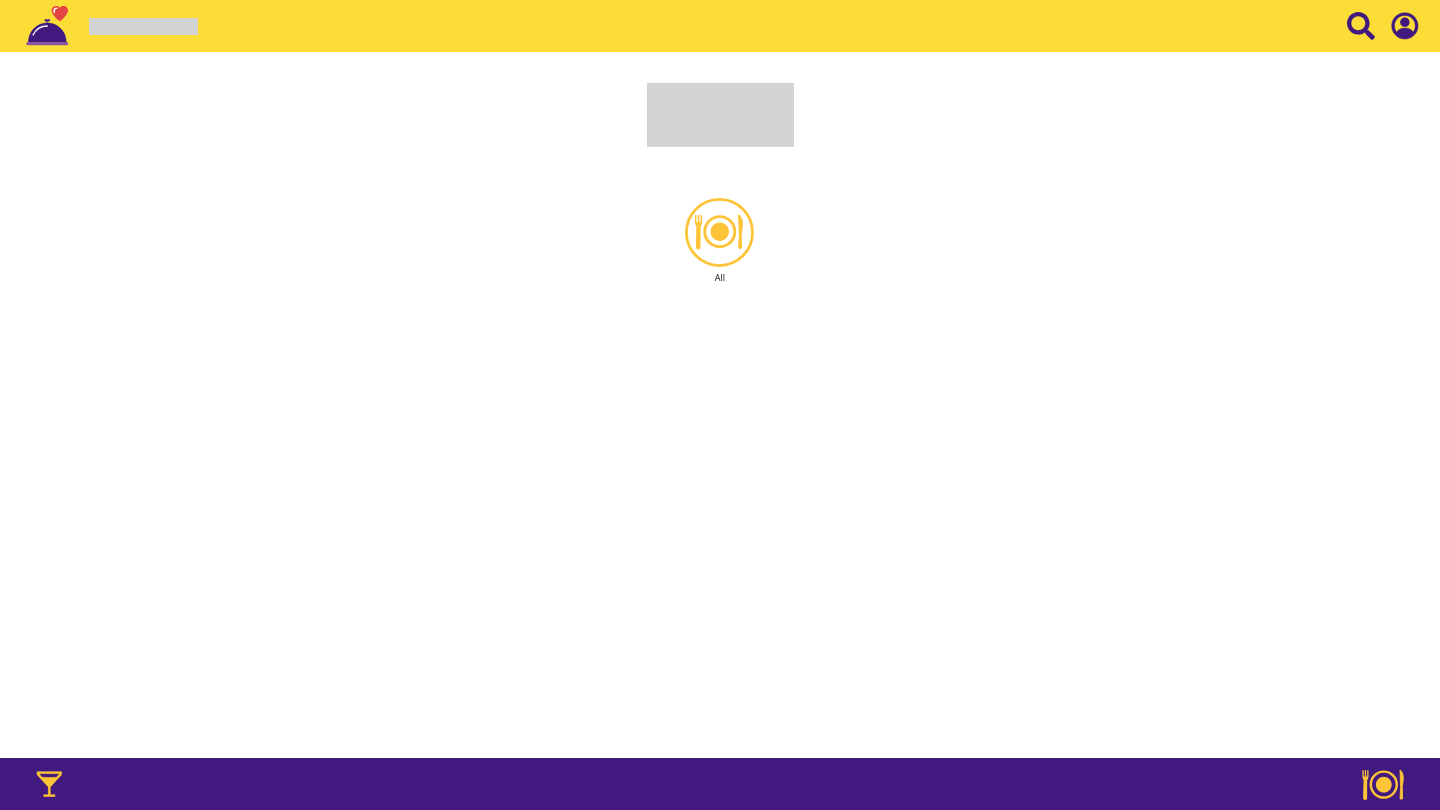
Test: Verifica o componente "SearchBar" › Verifica se ao ser clicado no botao de busca, o Searchbar é exibido
The image size is (1440, 810).
Step 1. Click the button with test id "search-top-btn" → (1361, 26), box top-left (1347, 12), bottom-right (1375, 40)
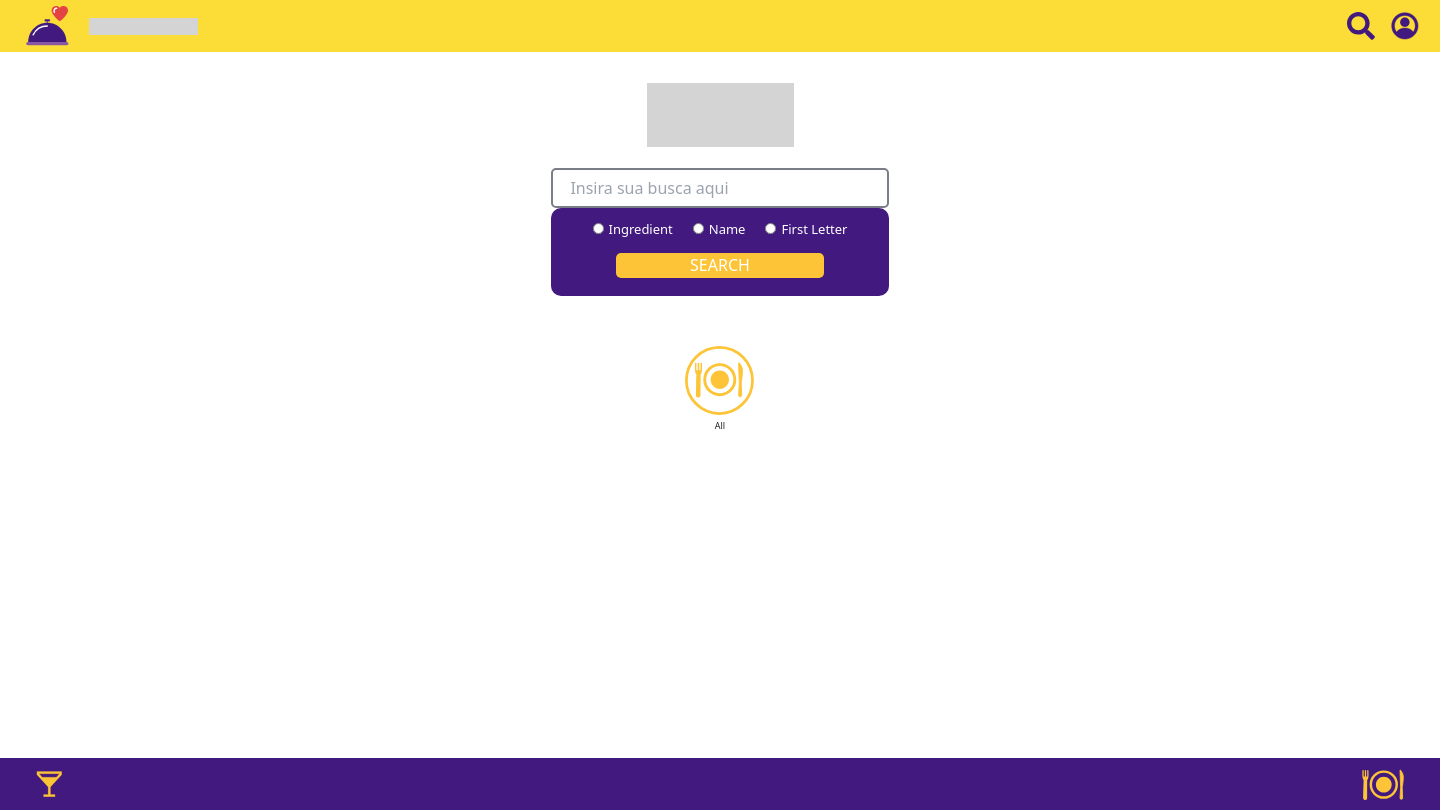
Result: the field is shown at top-left (551, 168), bottom-right (889, 208)
Result: the radio button labelled "Ingredient" is shown at top-left (592, 223), bottom-right (604, 234)
Result: the radio button labelled "Name" is shown at top-left (693, 223), bottom-right (704, 234)
